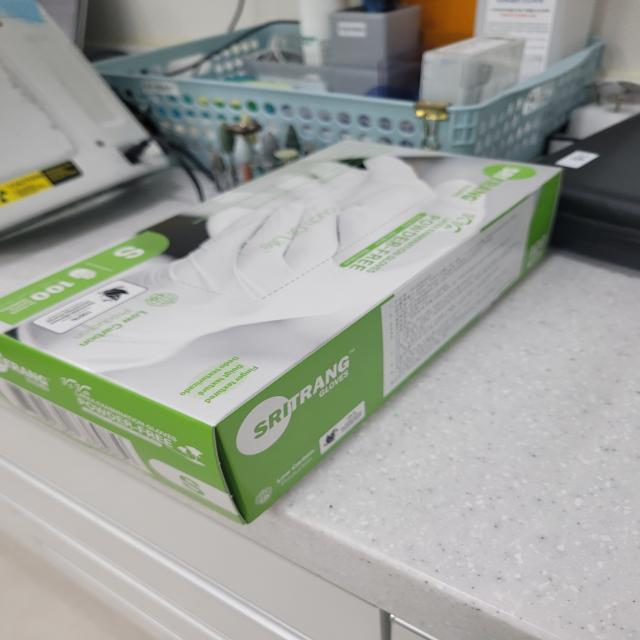glove: (0, 118, 590, 517)
